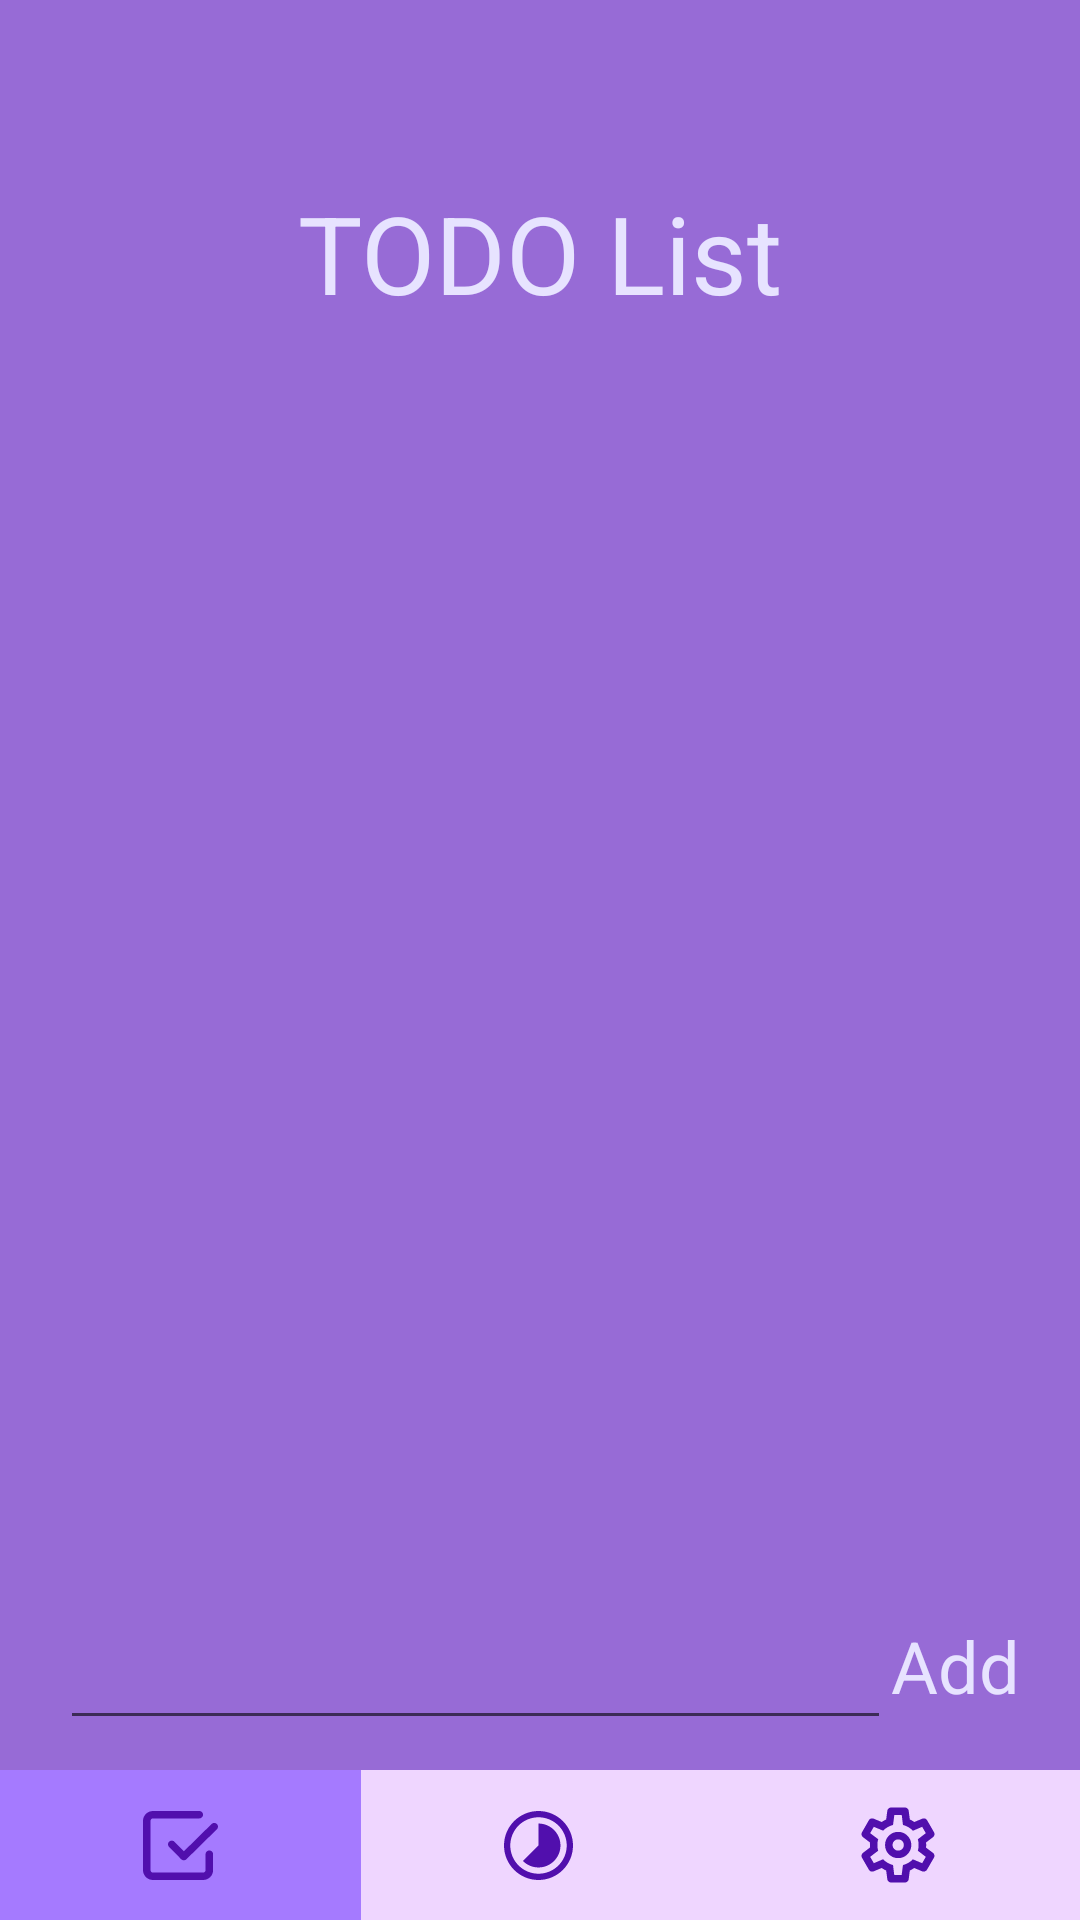

Point at icon controls on the screen. Image size 1080 x 1920, points as [x,y].
Pomodoro: [538,1845]
Settings: [898,1845]
